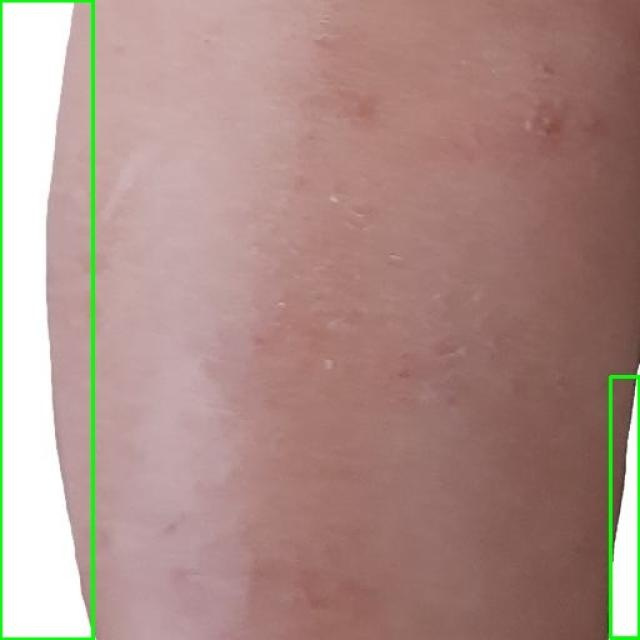Contact Dermatitis: (0, 0, 92, 639), (610, 378, 639, 639)
